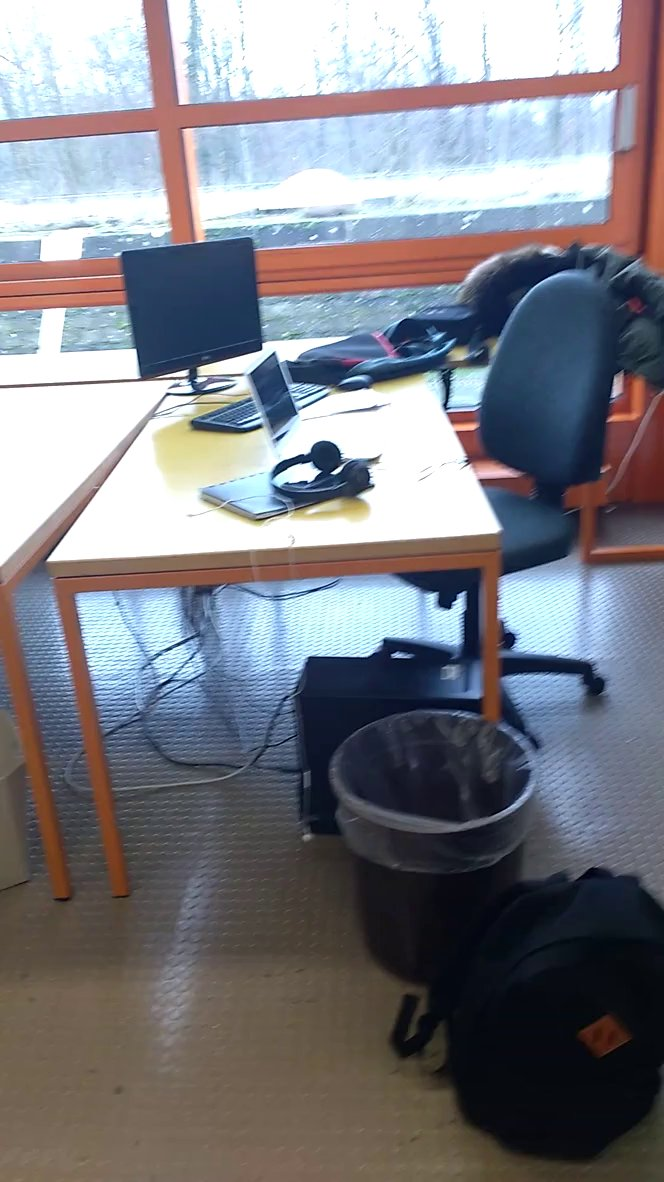bag: (377, 856, 664, 1169)
bin: (324, 694, 547, 1000)
chair: (413, 266, 624, 716)
laptop: (238, 340, 402, 470)
